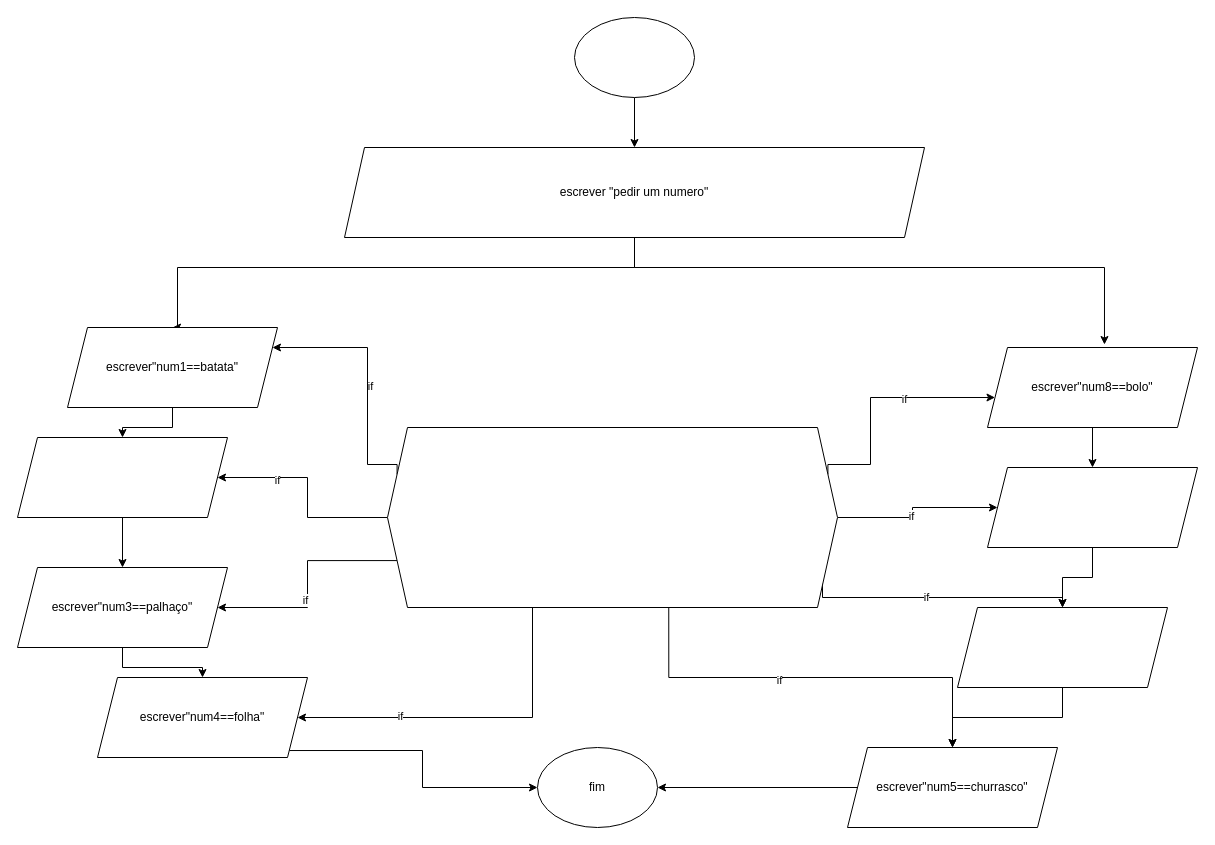
Image size: 1215x845. Some labels were removed from this diagram. Each missing label, with the box of its shape:
escrever"num2==tomate": (16, 436, 228, 518)
escrever"num6==balão": (956, 606, 1168, 688)
escrever"num7==tenis": (986, 466, 1198, 548)
inicio: (574, 16, 694, 98)
